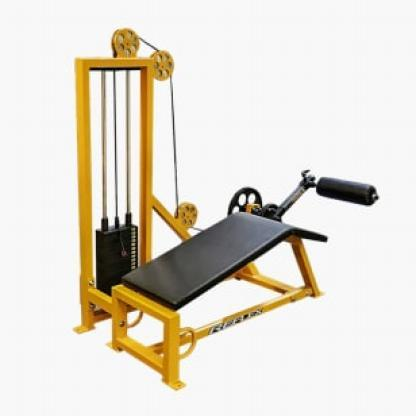reg curl machine: (73, 28, 379, 392)
